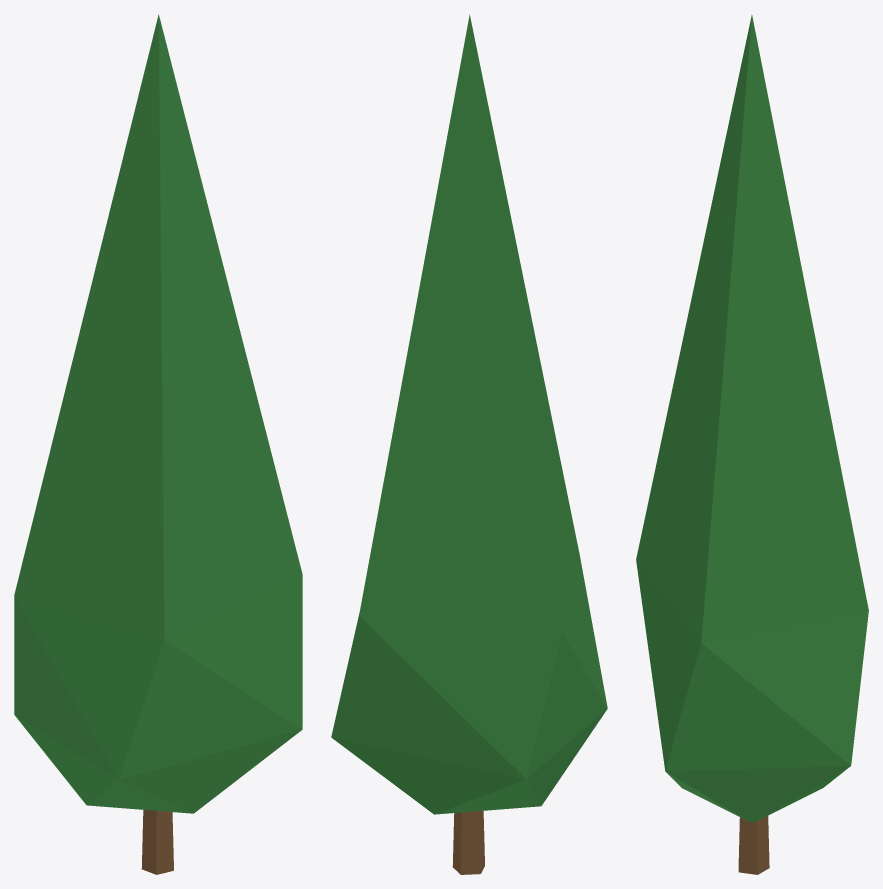
The model's file is tree-poplar.glb.
3 renders of one model, left to right at view 1: azimuth 30°, elevation 25°; view 2: azimuth 150°, elevation 25°; view 3: azimuth 270°, elevation 25°, orthographic.
Visible parts, largest first — view 1: tree-poplar; view 2: tree-poplar; view 3: tree-poplar.
Part boxes in pixels (<box>): tree-poplar: <box>14,14,302,874</box>; tree-poplar: <box>331,14,607,874</box>; tree-poplar: <box>636,15,868,874</box>.
Bounding box in the file's own units: 2.21 × 7.62 × 1.88.
1 material, 1 textured.
